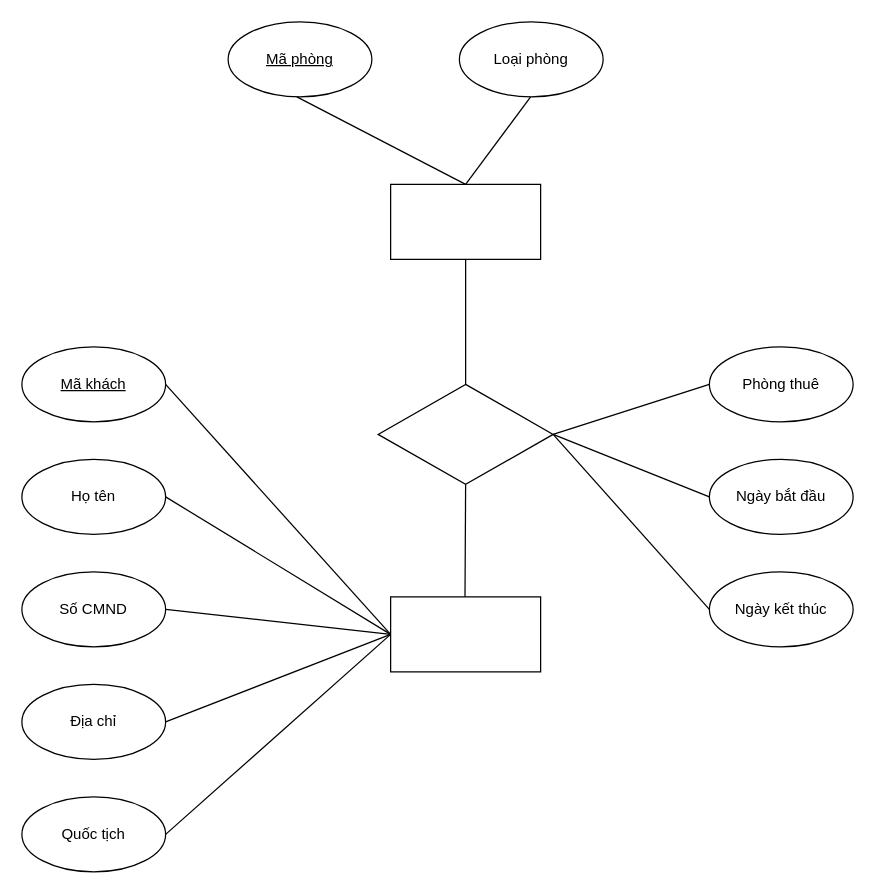
Image size: 875x894. Some labels were removed from this diagram. The centre of each missing label's shape, as x and y in pixels:
"Khách trọ" goes at (465,634).
"Phòng" goes at (465,221).
"Thuê" goes at (465,433).
